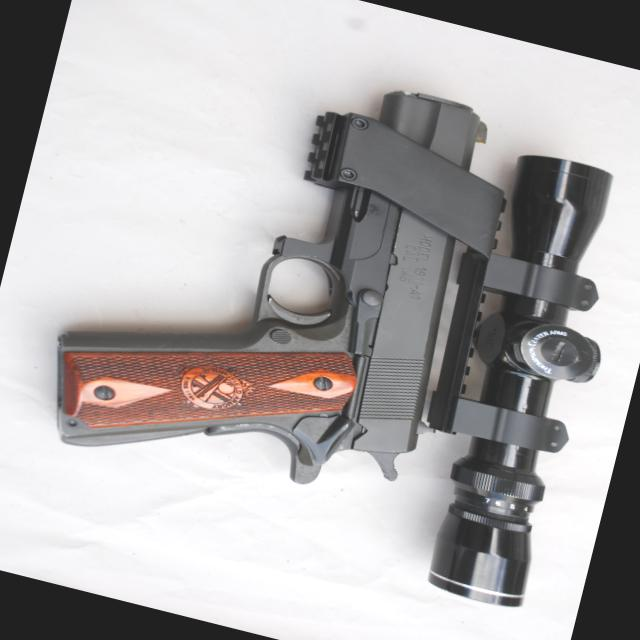handgun: (34, 7, 513, 532)
